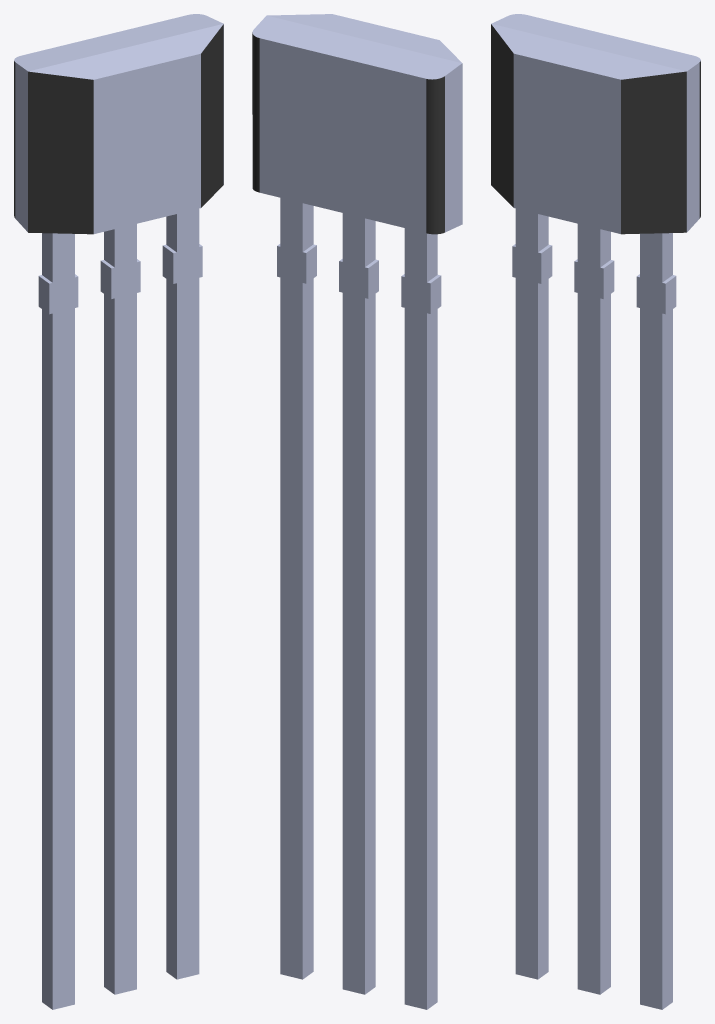
The model's file is sip3.glb.
3 renders of one model, left to right at view 1: azimuth 30°, elevation 25°; view 2: azimuth 150°, elevation 25°; view 3: azimuth 330°, elevation 25°, orthographic.
Parts seen in each view (by area): view 1: NAUO2, NAUO3, NAUO4; view 2: NAUO2, NAUO4, NAUO3; view 3: NAUO2, NAUO3, NAUO4.
Boxes of the visible parts, box(x1,y1,x2,y2) form: NAUO2: box(38, 208, 202, 1009); NAUO3: box(28, 24, 223, 234); NAUO4: box(14, 14, 223, 231); NAUO2: box(277, 198, 441, 1009); NAUO4: box(252, 15, 462, 234); NAUO3: box(267, 14, 462, 224); NAUO2: box(512, 208, 676, 1009); NAUO3: box(491, 23, 686, 234); NAUO4: box(491, 14, 700, 232).
Bounding box in the file's own units: 0.004 × 0.0185 × 0.00152.
